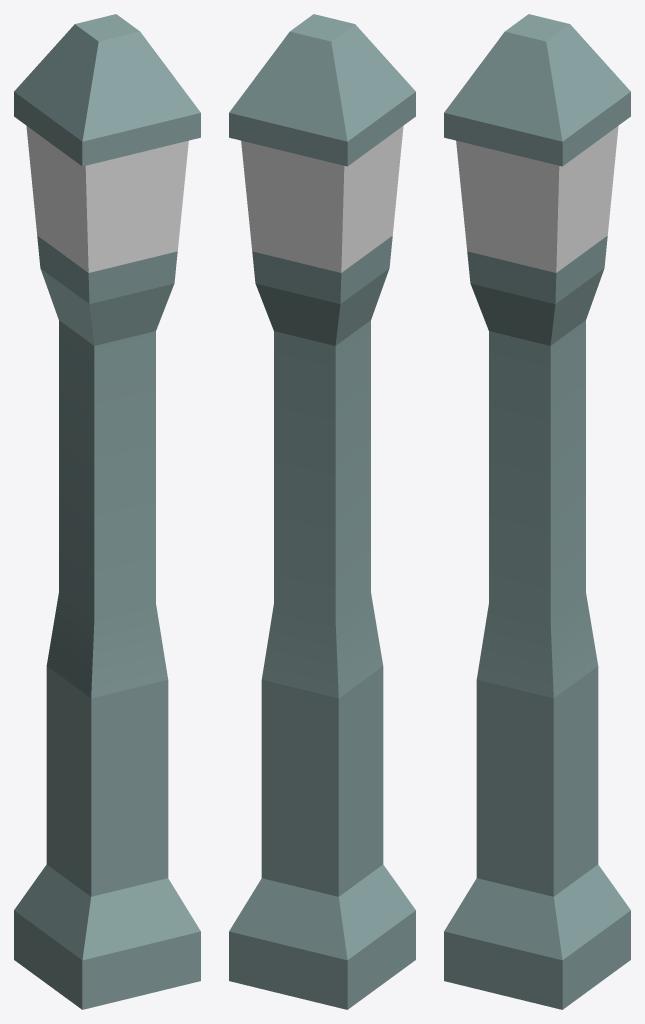
Rendered from Lightpost_01.glb.
3 renders of one model, left to right at view 1: azimuth 30°, elevation 25°; view 2: azimuth 150°, elevation 25°; view 3: azimuth 330°, elevation 25°, orthographic.
Visible parts, largest first — view 1: Lightpost_01; view 2: Lightpost_01; view 3: Lightpost_01.
Boxes of the visible parts, x1,y1,x2,y2 form: Lightpost_01: [14, 14, 200, 1009]; Lightpost_01: [229, 14, 415, 1009]; Lightpost_01: [444, 14, 630, 1009].
Bounding box in the file's own units: 0.5001 × 3.8 × 0.5001.
